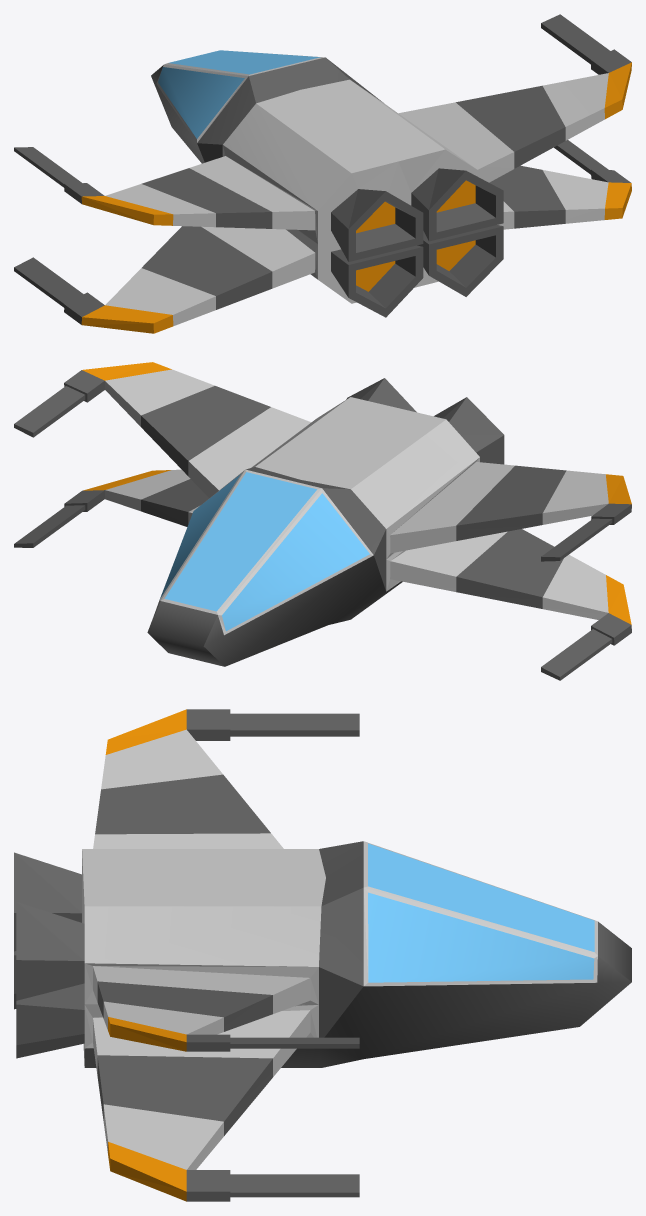
The model's file is spaceship.gltf.
3 views of the same model, one above another, from view 1: azimuth 30°, elevation 25°; view 2: azimuth 150°, elevation 25°; view 3: azimuth 270°, elevation 25° (orthographic). The views are drawn at different scales.
Parts seen in each view (by area): view 1: Box003; view 2: Box003; view 3: Box003.
Boxes of the visible parts, bbox=[...] form: Box003: bbox=[14, 14, 631, 333]; Box003: bbox=[14, 362, 631, 680]; Box003: bbox=[14, 709, 631, 1201].
Size of the model in its own units: 125 by 30.88 by 98.22.
